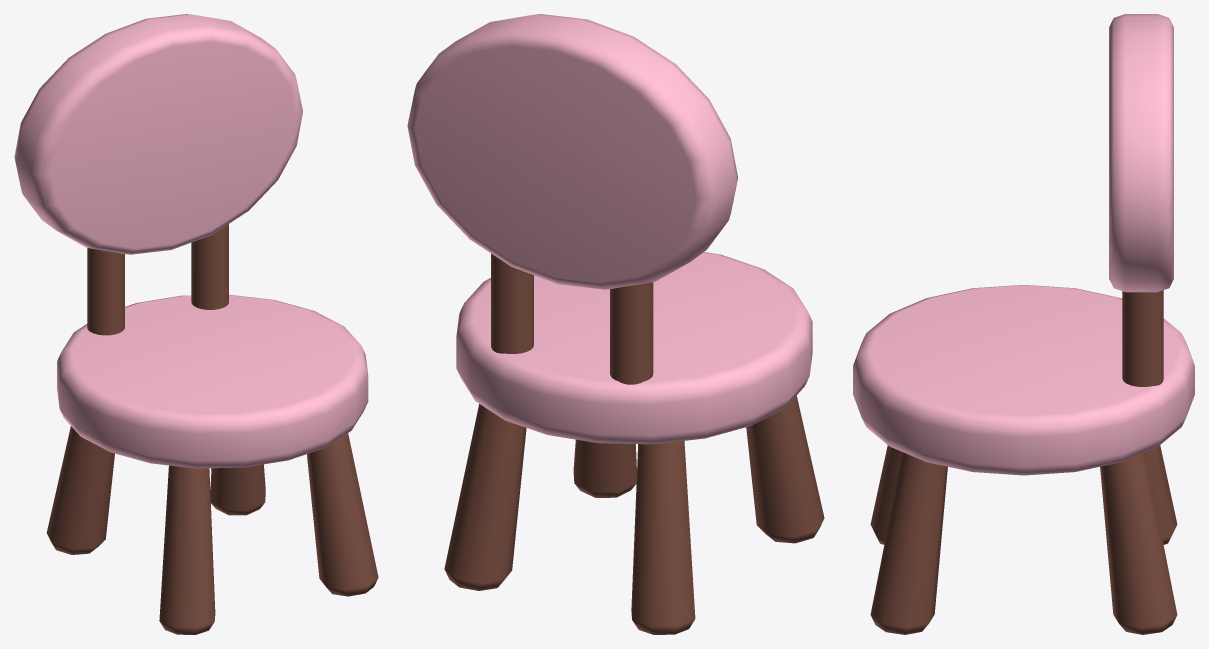
The model's file is Store_4_Chair_1.glb.
3 renders of one model, left to right at view 1: azimuth 30°, elevation 25°; view 2: azimuth 150°, elevation 25°; view 3: azimuth 270°, elevation 25°, orthographic. The views are drawn at different scales.
Parts seen in each view (by area): view 1: Store_4_Chair_1; view 2: Store_4_Chair_1; view 3: Store_4_Chair_1.
Boxes of the visible parts, x1=… form: Store_4_Chair_1: x1=14, y1=14, x2=378, y2=634; Store_4_Chair_1: x1=407, y1=14, x2=824, y2=634; Store_4_Chair_1: x1=853, y1=14, x2=1194, y2=634.
Size of the model in its own units: 0.62 by 1.1 by 0.62.
1 material, 1 textured.
